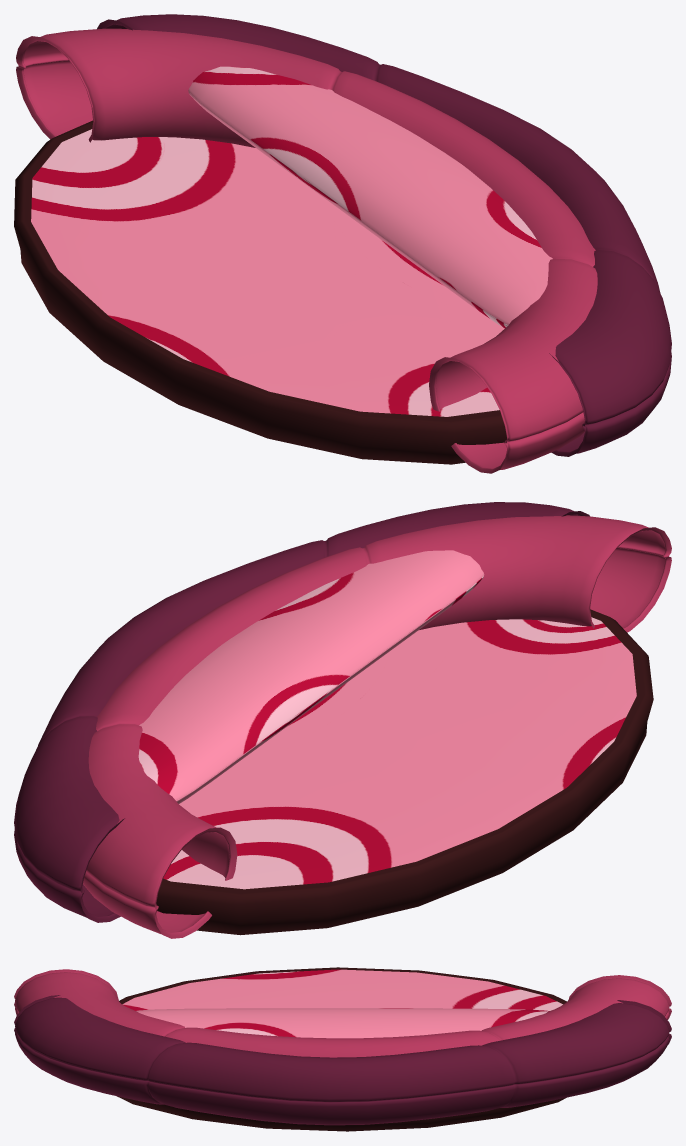
The model's file is oktiromeBaseFix.fbx.
3 views of the same model, one above another, from view 1: azimuth 30°, elevation 25°; view 2: azimuth 150°, elevation 25°; view 3: azimuth 270°, elevation 25° (orthographic). The views are drawn at different scales.
Parts seen in each view (by area): view 1: CilindroBajo, pTorus62, pCylinder196, pTorus61; view 2: CilindroBajo, pTorus62, pCylinder196, pTorus61; view 3: pTorus61, CilindroBajo, pTorus62, pCylinder196.
Boxes of the visible parts, x1=… form: CilindroBajo: x1=14, y1=120, x2=506, y2=464; pTorus62: x1=16, y1=28, x2=597, y2=473; pCylinder196: x1=188, y1=66, x2=552, y2=328; pTorus61: x1=97, y1=14, x2=671, y2=456; CilindroBajo: x1=156, y1=609, x2=653, y2=935; pTorus62: x1=83, y1=515, x2=671, y2=938; pCylinder196: x1=138, y1=550, x2=484, y2=803; pTorus61: x1=14, y1=502, x2=589, y2=922; pTorus61: x1=14, y1=995, x2=671, y2=1125; CilindroBajo: x1=117, y1=967, x2=566, y2=1131; pTorus62: x1=14, y1=969, x2=671, y2=1057; pCylinder196: x1=136, y1=1008, x2=549, y2=1038.
Bounding box in the file's own units: 1308 × 304 × 2408.
